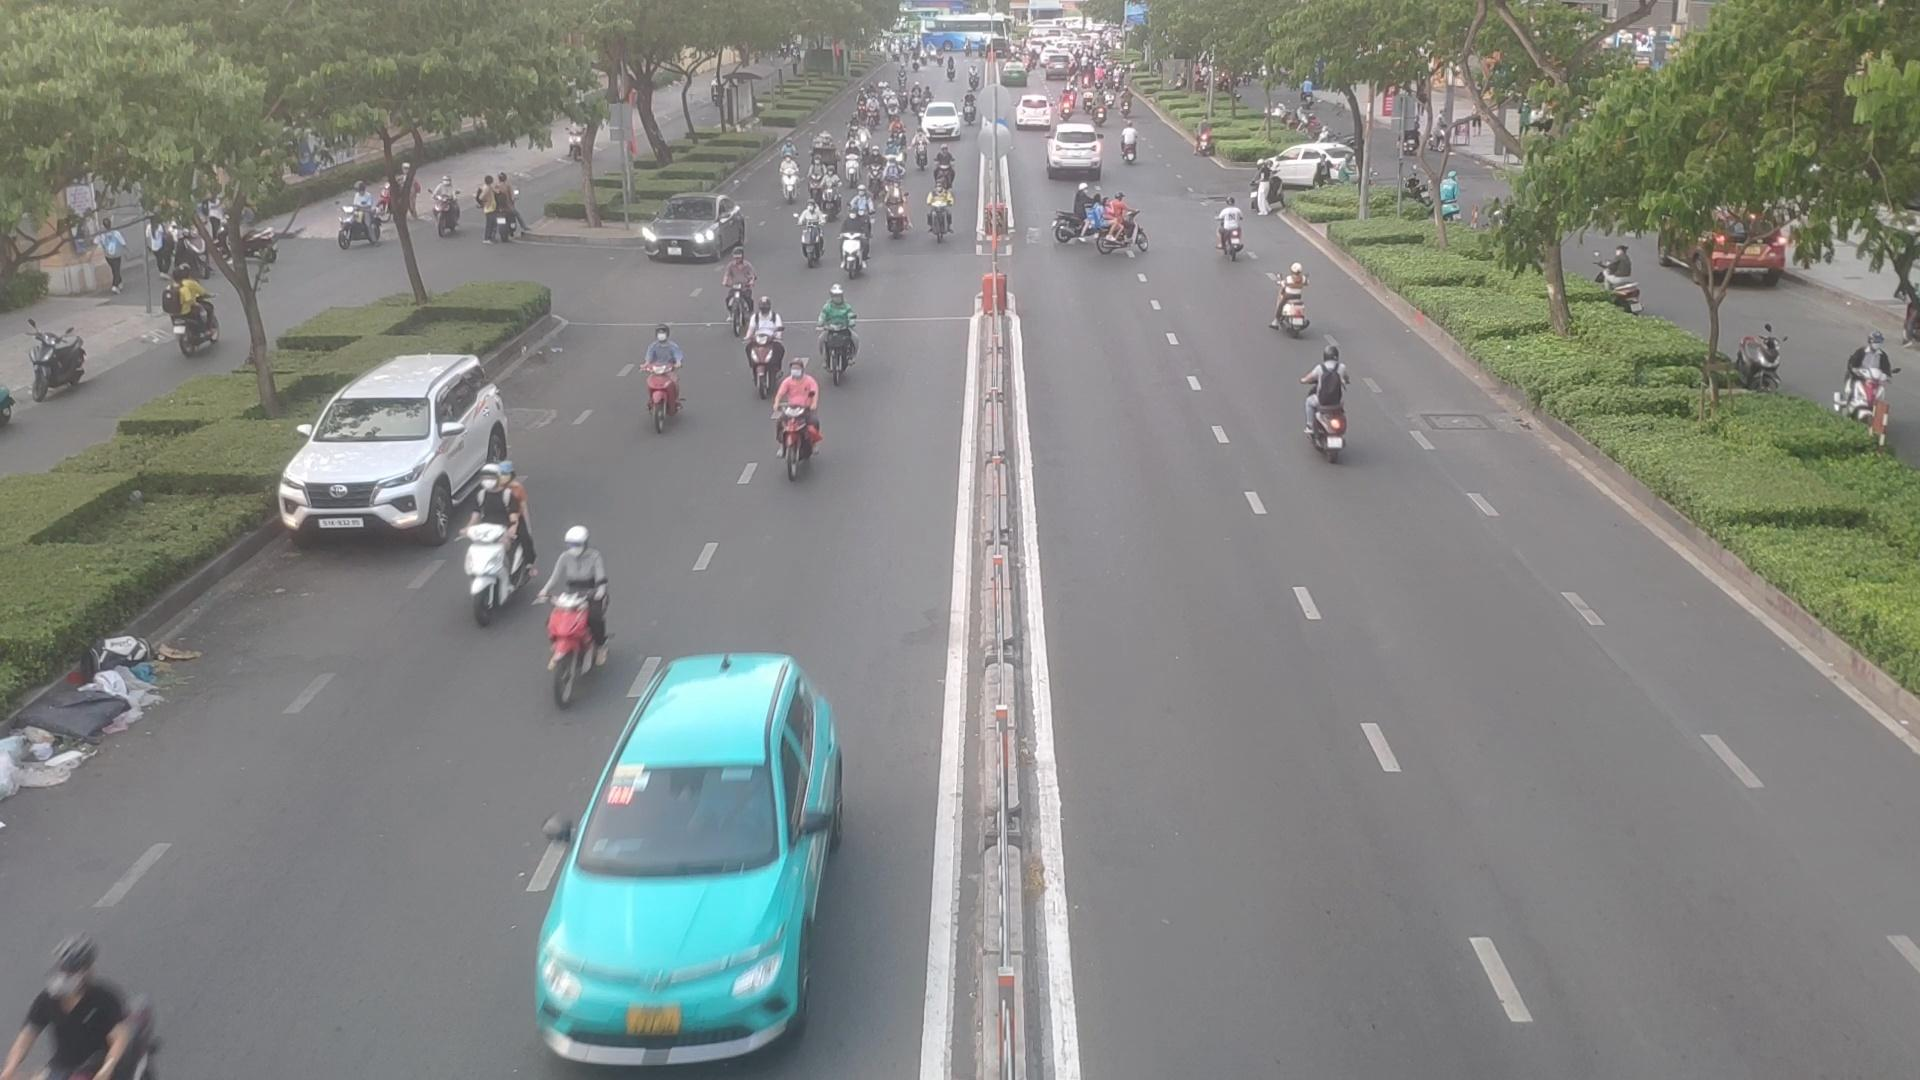car: (280, 356, 514, 549), (636, 194, 748, 262), (1259, 142, 1357, 198), (1040, 127, 1105, 177)
motorbike: (539, 527, 615, 692), (462, 465, 525, 618), (771, 357, 820, 480), (1302, 352, 1346, 463), (644, 323, 684, 429), (814, 284, 857, 381), (1092, 195, 1156, 260), (719, 262, 754, 338), (1055, 186, 1101, 241), (748, 299, 777, 386), (1275, 261, 1305, 338), (796, 203, 828, 265), (839, 210, 866, 277), (1218, 198, 1246, 258), (924, 186, 953, 240), (882, 185, 906, 233), (820, 164, 845, 208), (864, 146, 885, 191), (779, 157, 798, 200), (806, 157, 824, 200), (1120, 123, 1138, 165), (913, 129, 934, 165), (931, 150, 951, 185), (885, 136, 902, 167), (845, 141, 855, 186), (857, 124, 870, 146)
